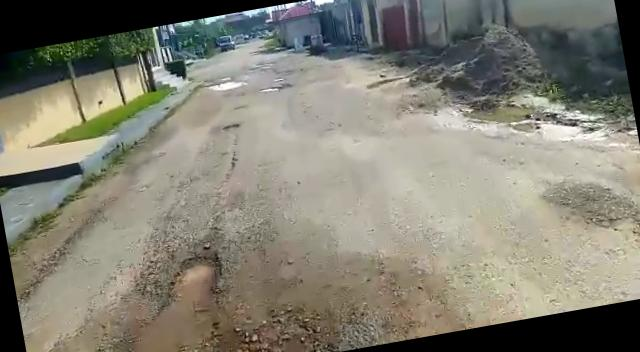pothole: (161, 250, 229, 304), (203, 77, 248, 94), (259, 84, 283, 95)
